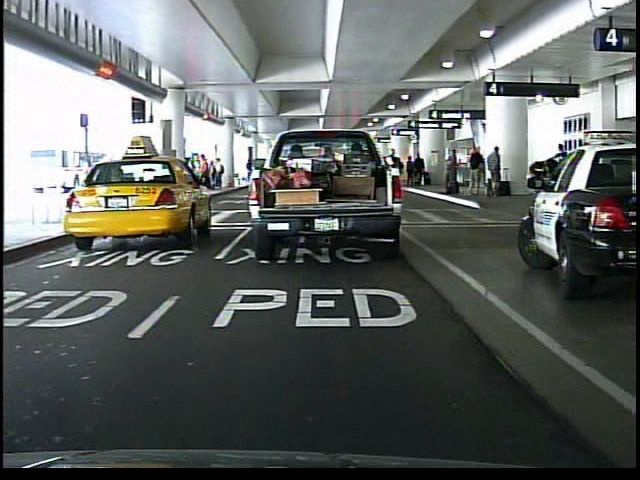person: (318, 142, 351, 225), (376, 143, 402, 209), (549, 139, 574, 200), (245, 155, 254, 184)
